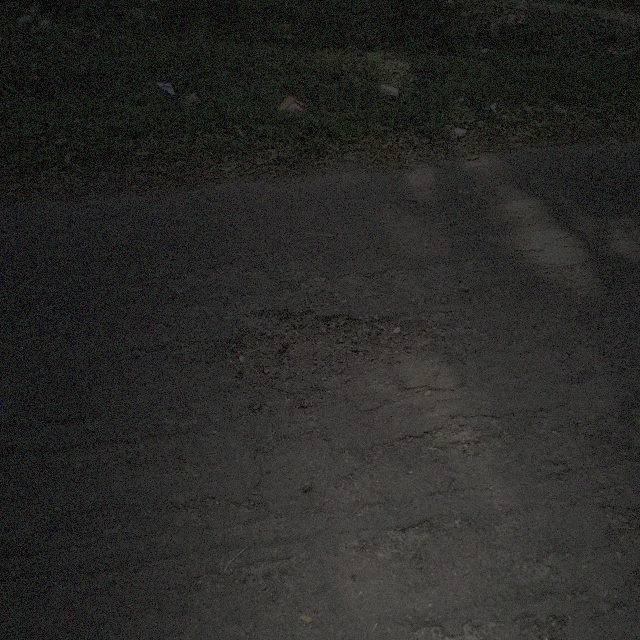pothole: (214, 307, 436, 390)
